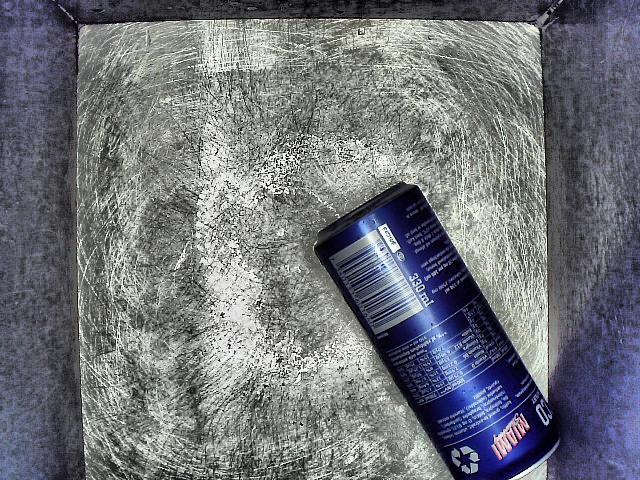Bottles: (309, 171, 567, 477)
